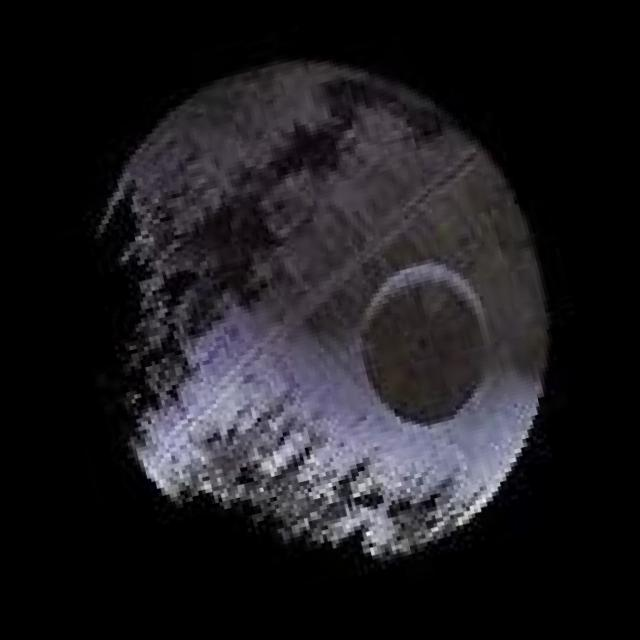Death Star: (35, 4, 607, 627)
